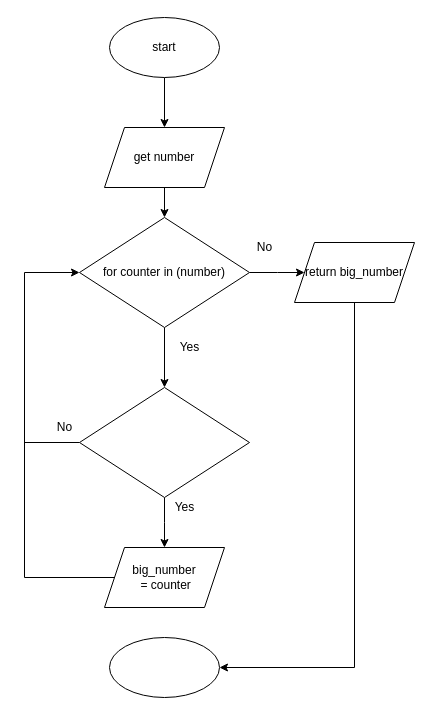
Image size: 432x715. Some labels were removed from this diagram. Each missing label, with the centre of its shape:
"if counter < big_number" goes at point (164, 442).
"stop" goes at point (164, 667).
